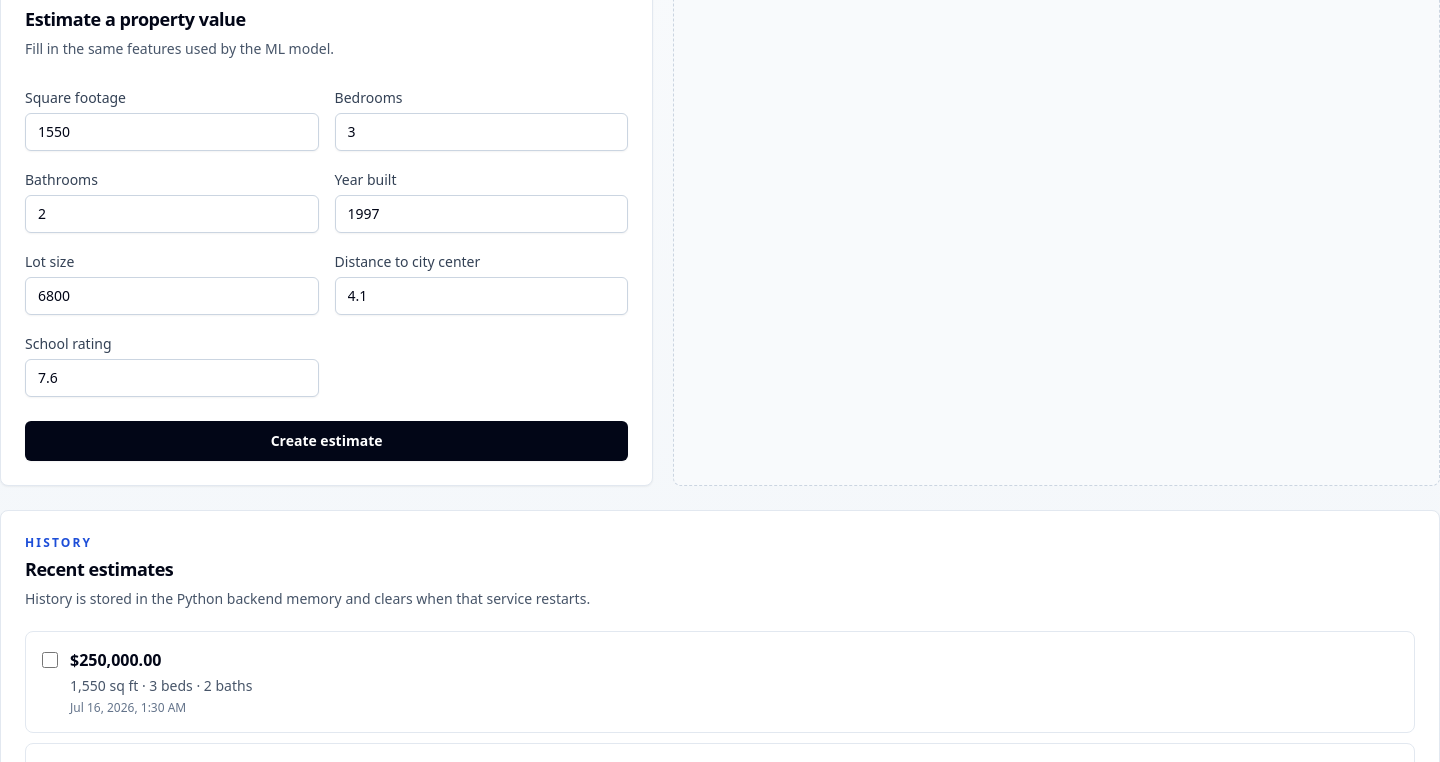
Test case: EstimatorDashboard › clears a rendered comparison when the selected history records change
Click the 1st checkbox.
click(50, 660)  # box left=42, top=652, right=58, bottom=668
(page scrolled)
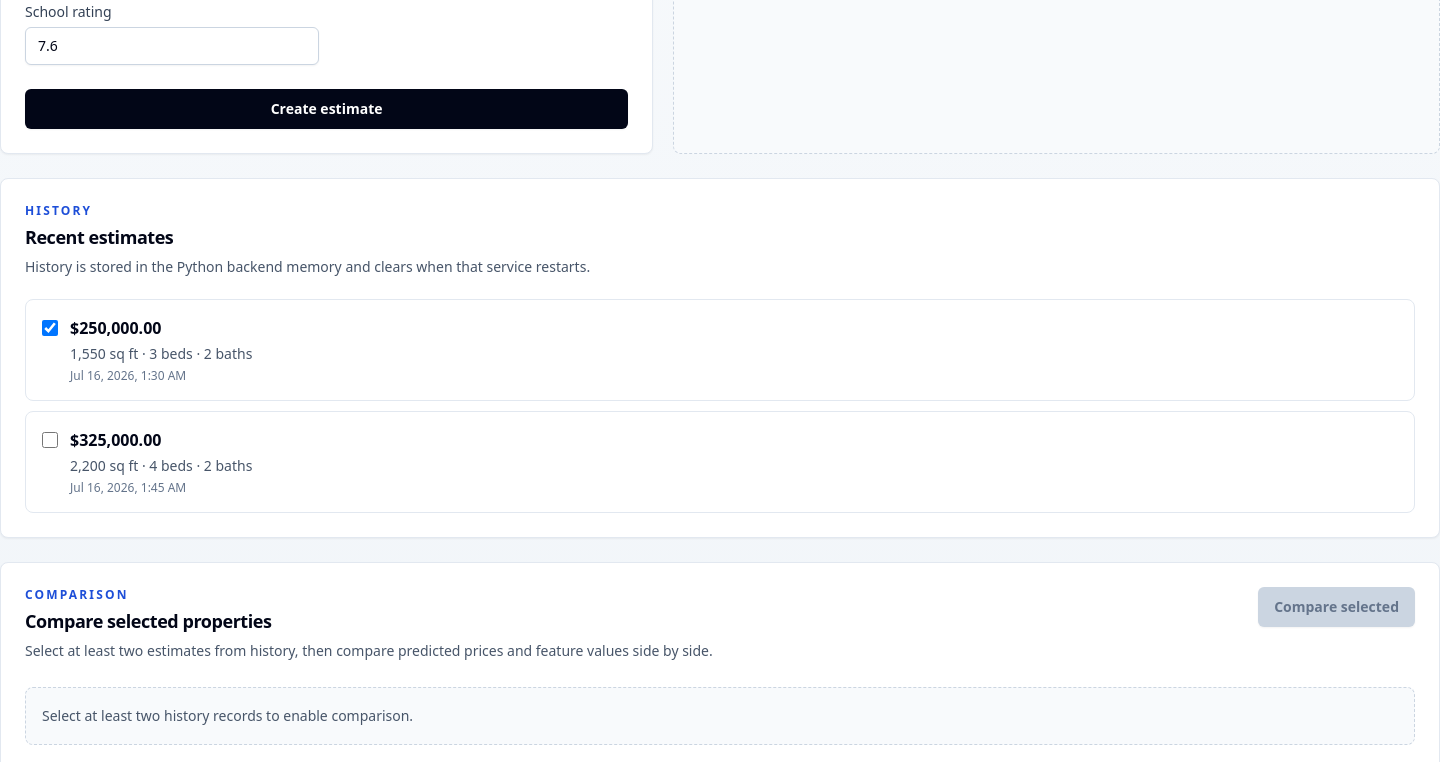
Click the 2nd checkbox.
click(50, 440)  # box left=42, top=432, right=58, bottom=448
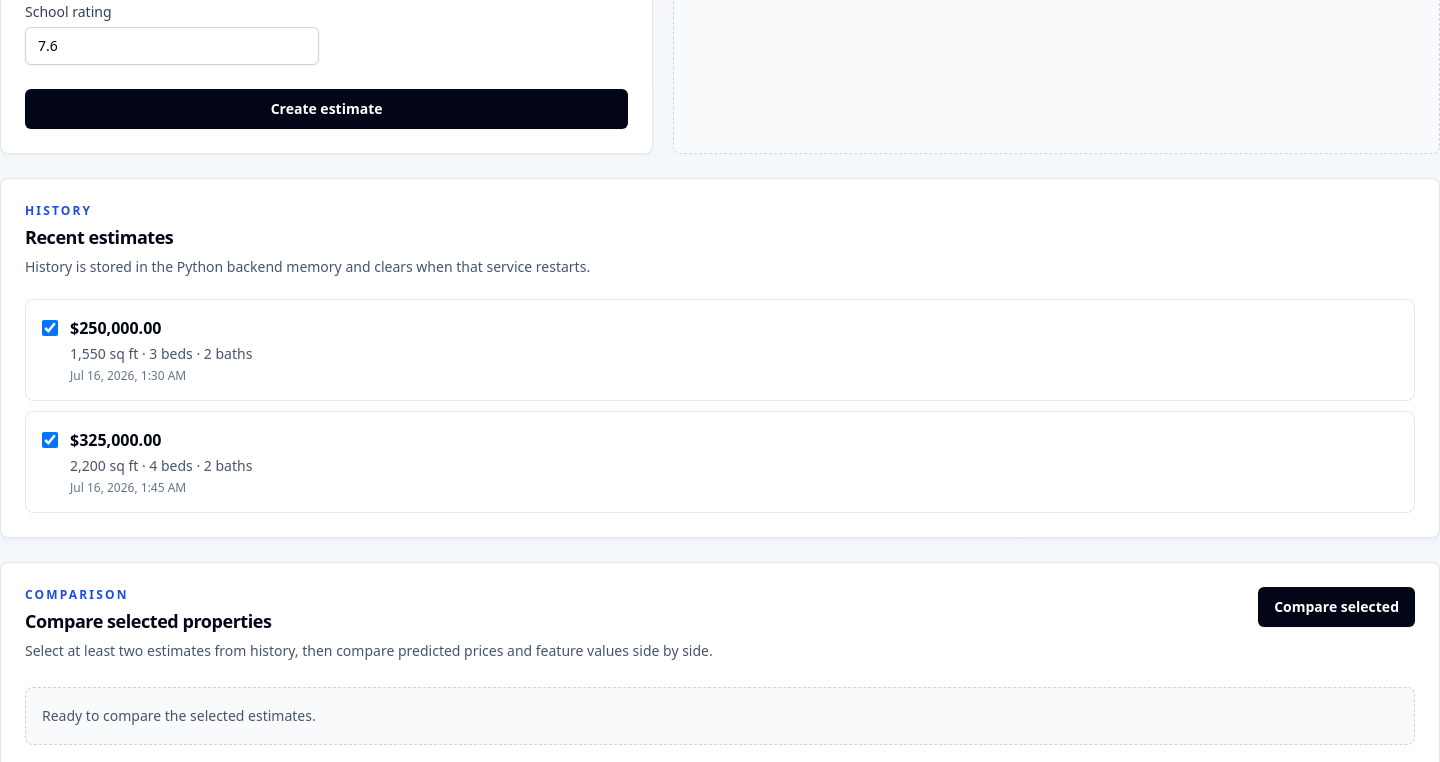
Expected: the button "Compare selected" is enabled
Click the button "Compare selected".
click(1337, 607)  # box left=1258, top=587, right=1415, bottom=627
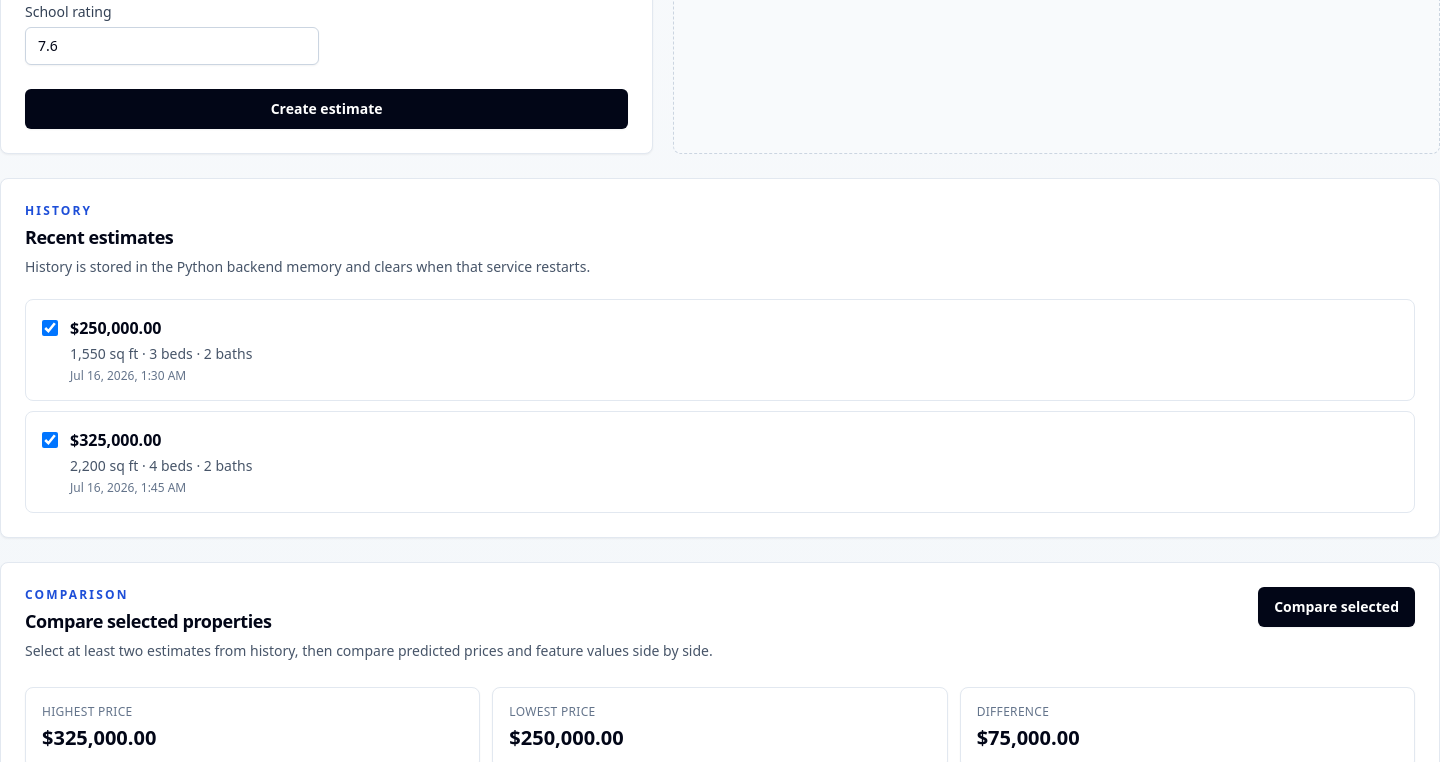
Expected: the text "Highest price" is shown, left=42, top=703, right=133, bottom=720
Click the 1st checkbox.
click(50, 328)  # box left=42, top=320, right=58, bottom=336
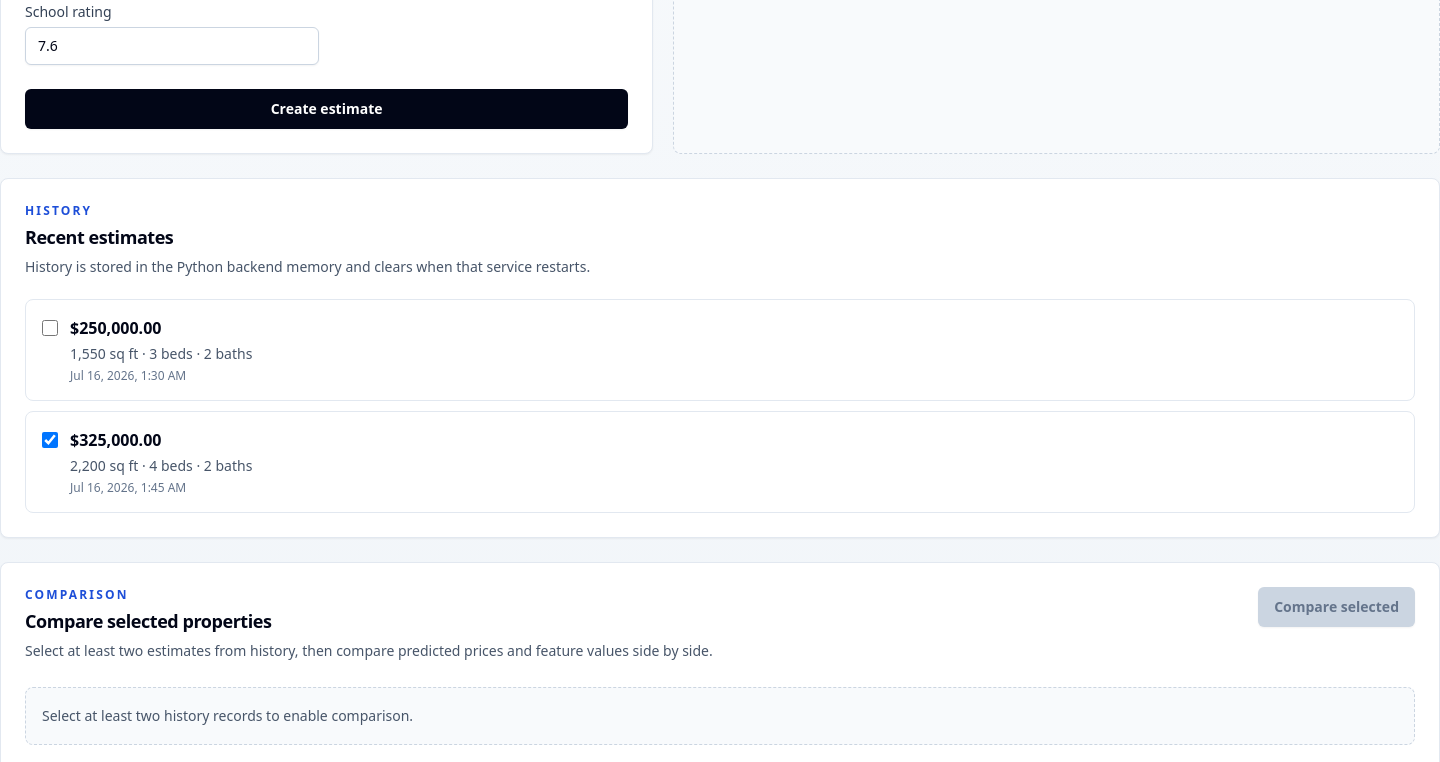
Expected: the text "Highest price" is gone
Expected: the button "Compare selected" is disabled, left=1258, top=587, right=1415, bottom=627
